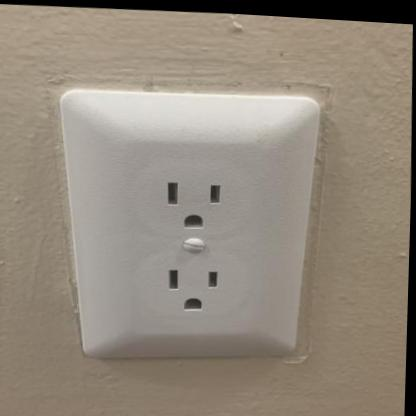OUTLET: (49, 79, 325, 378)
